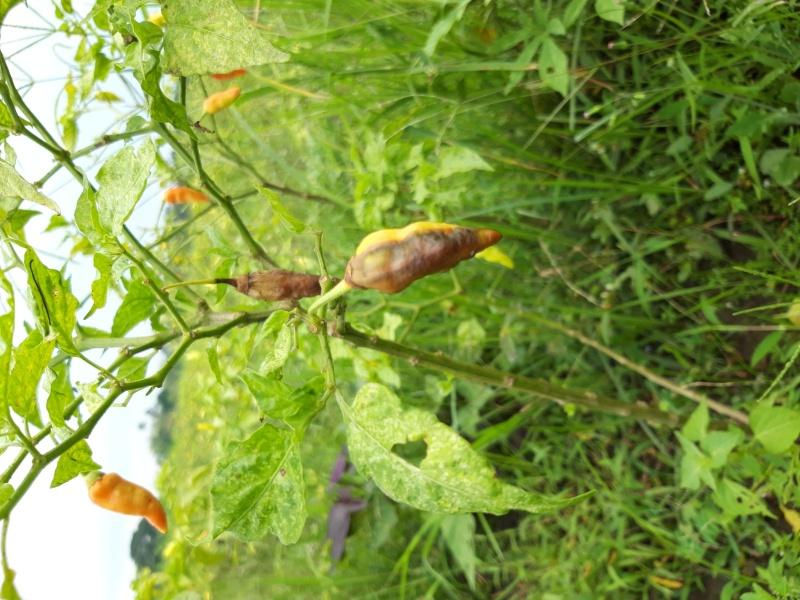cabai_normal: (86, 474, 170, 533), (200, 87, 245, 117), (163, 185, 209, 204)
lalat_buah: (346, 222, 501, 297), (248, 271, 342, 301)
